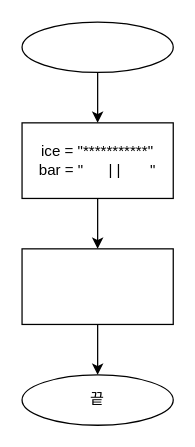
Image size: 195x447. Some labels were removed from this diagram. Here are the shapes that lost their labels. From the top down, the centre of each, then its label:
At pixel 97 46: "시작".
At pixel 97 286: "print(ice) 8번 반복 print(bar) 4번 반복".
